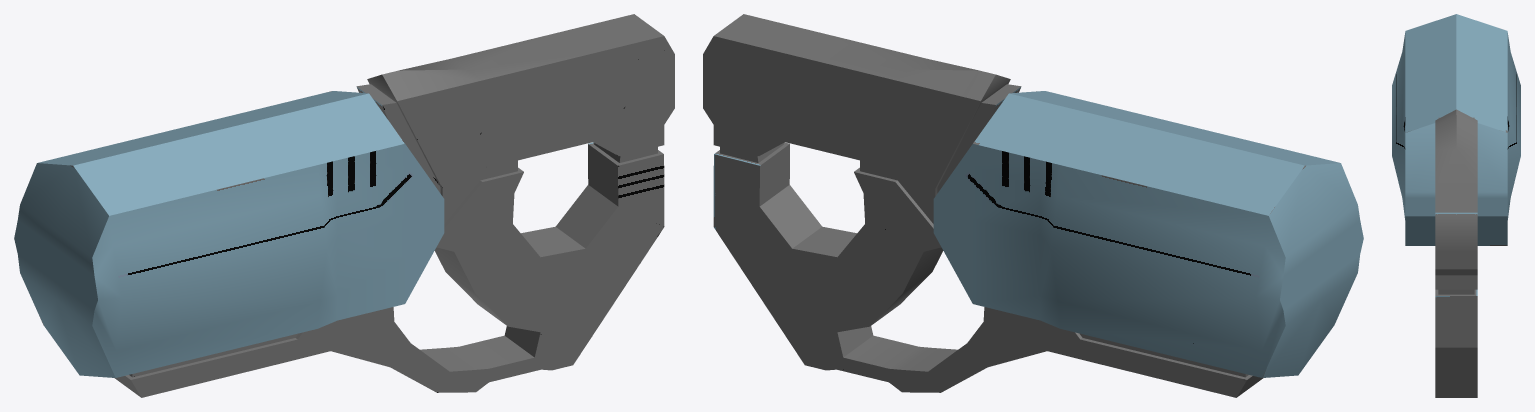
File: guns.glb
3 renders of one model, left to right at view 1: azimuth 30°, elevation 25°; view 2: azimuth 150°, elevation 25°; view 3: azimuth 270°, elevation 25°, orthographic. The views are drawn at different scales.
Visible parts, largest first — view 1: Cube; view 2: Cube; view 3: Cube.
Boxes of the visible parts, <box> form: Cube: <box>14,14,674,397</box>; Cube: <box>703,14,1363,397</box>; Cube: <box>1392,14,1520,397</box>.
Bounding box in the file's own units: 0.926 × 0.478 × 0.2424.
1 material, 1 textured.
